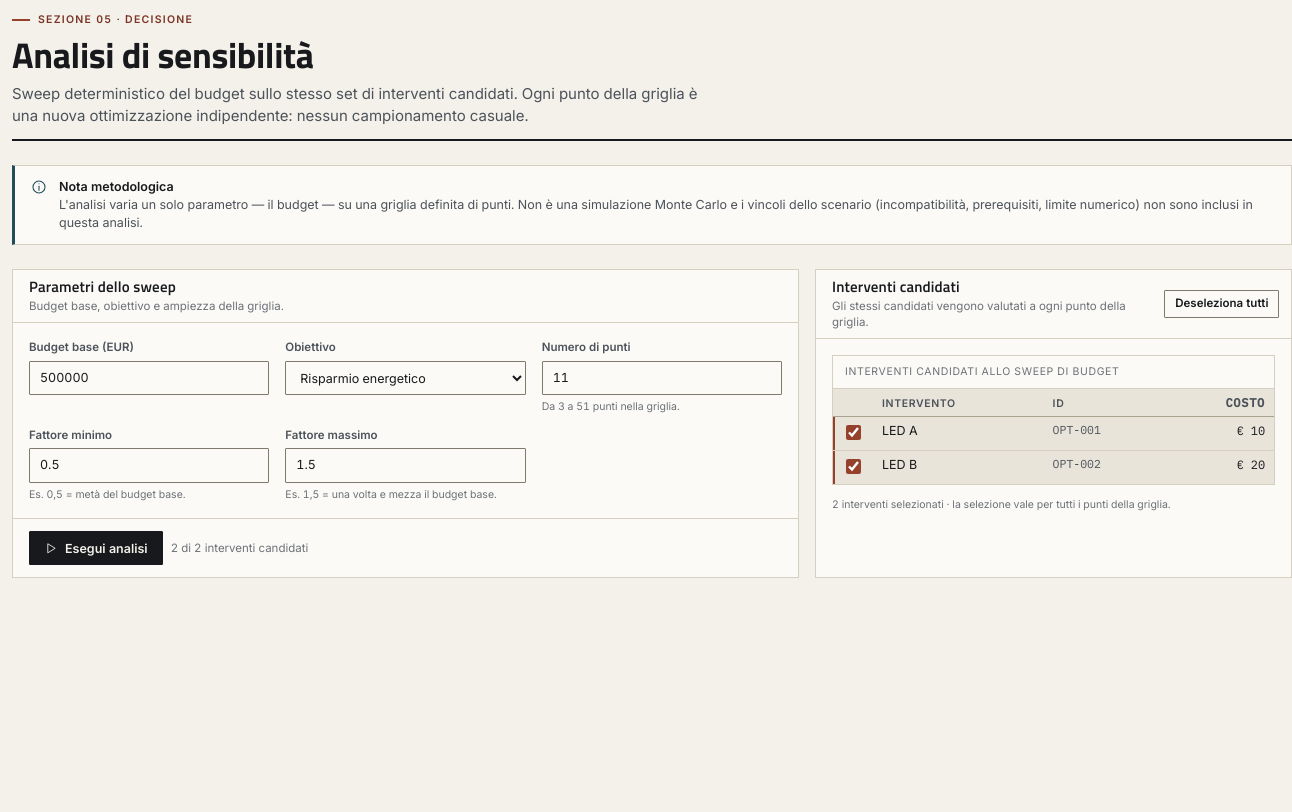
Test case: SensitivityPage › disabilita il pulsante Esegui quando nessun candidato è selezionato
This screenshot has width=1292, height=812.
// Aspetta che i candidati siano caricati (pulsante deseleziona visibile)
Click the button "Deseleziona tutti" at (1222, 304), box [1164,290,1279,318]
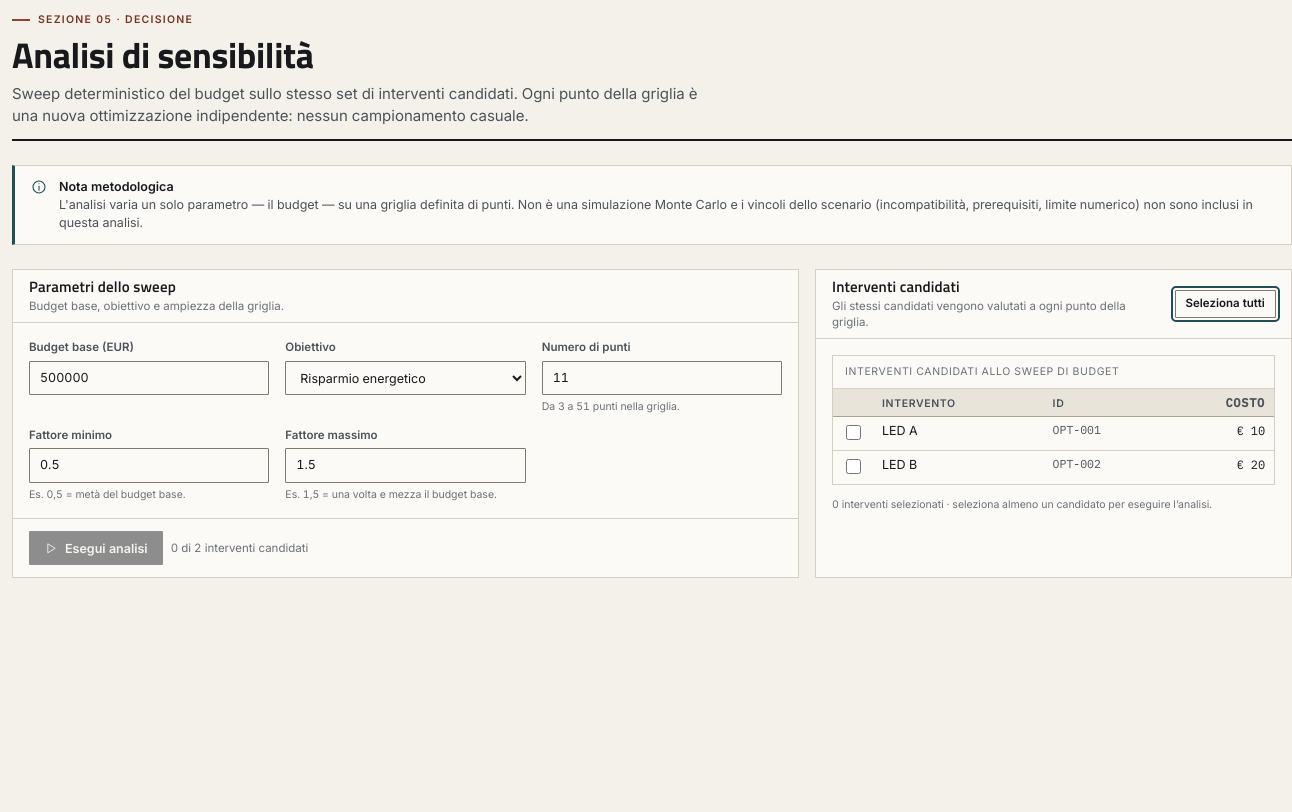
Now the button "Esegui analisi" is disabled, box [29,531,163,565]
